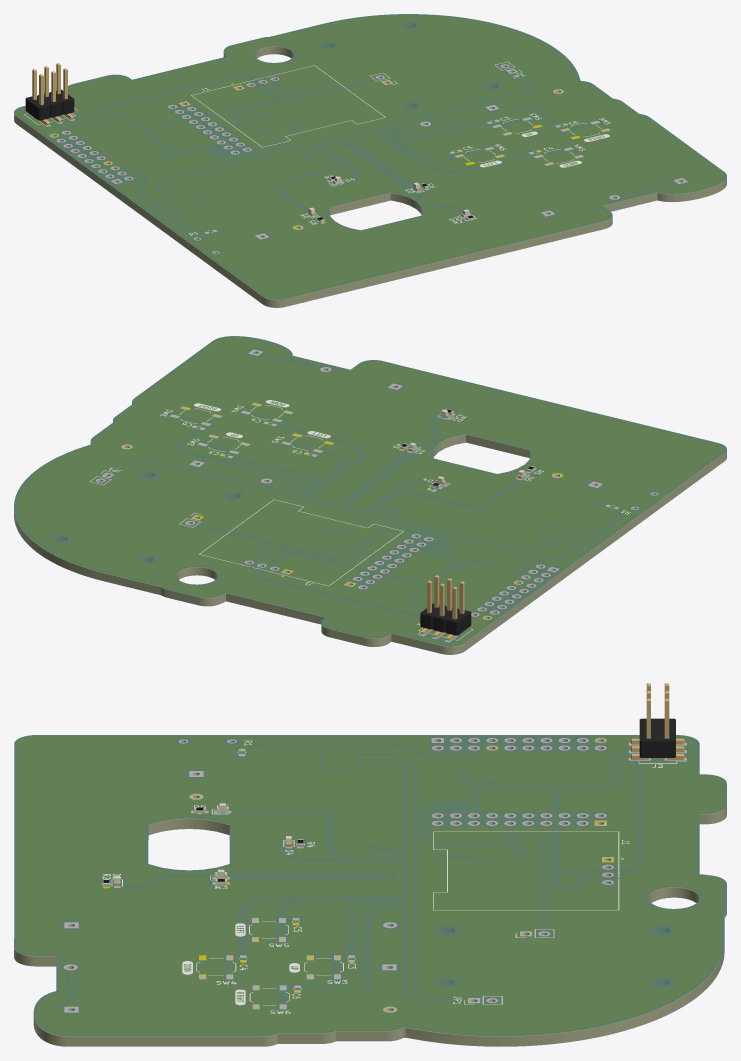
Rendered from 44con-2025-rf-detector-badge.glb.
The picture shows the model from 3 angles, top to bottom: view 1: azimuth 30°, elevation 25°; view 2: azimuth 150°, elevation 25°; view 3: azimuth 270°, elevation 25°; orthographic projection. The views are drawn at different scales.
Parts seen in each view (by area): view 1: =>[0:1:1:17], =>[0:1:1:3]; view 2: =>[0:1:1:17], =>[0:1:1:3]; view 3: =>[0:1:1:17], =>[0:1:1:3].
Part boxes in pixels (bbox=[...]): =>[0:1:1:17]: bbox=[14, 14, 726, 307]; =>[0:1:1:3]: bbox=[17, 16, 723, 298]; =>[0:1:1:17]: bbox=[14, 336, 726, 654]; =>[0:1:1:3]: bbox=[17, 338, 723, 644]; =>[0:1:1:17]: bbox=[14, 735, 726, 1046]; =>[0:1:1:3]: bbox=[18, 683, 722, 1034].
Size of the model in its own units: 0.1 by 0.0125 by 0.1.
2 materials, 2 textured.
